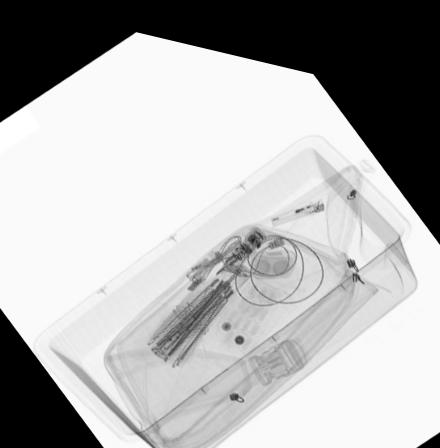Lighter: (270, 181, 326, 213)
